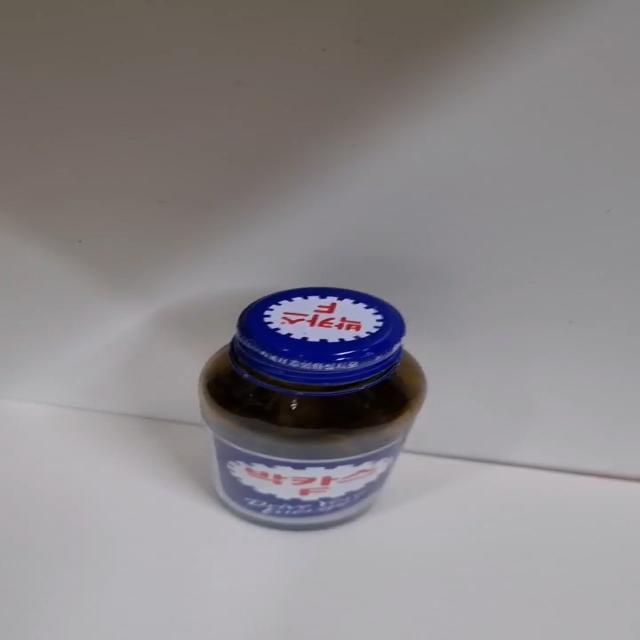Glass: (196, 287, 429, 534)
